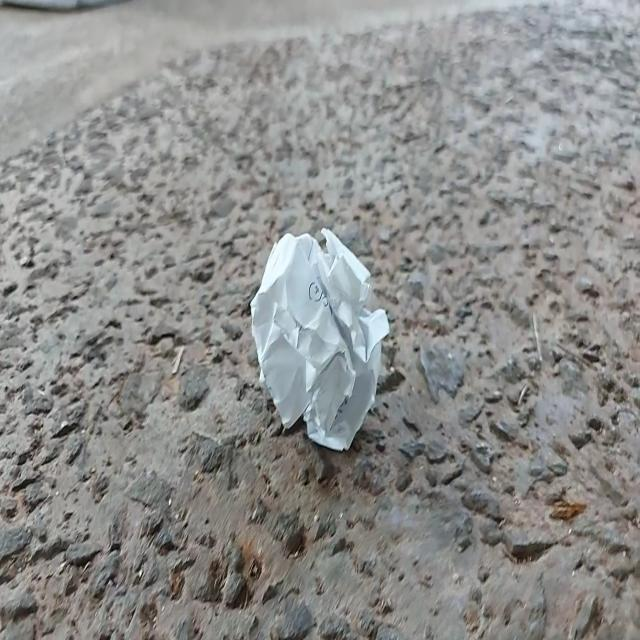Paper: (238, 206, 395, 464)
